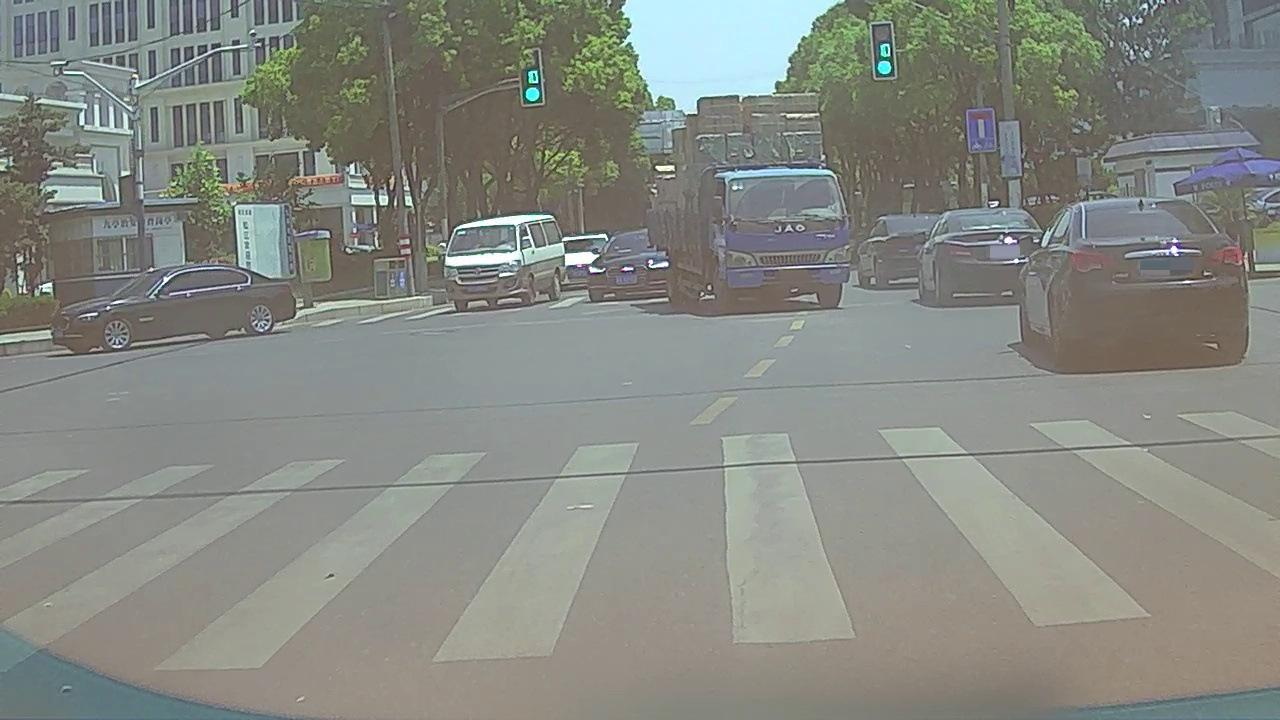traffic_light: (871, 23, 896, 77), (520, 53, 543, 106)
